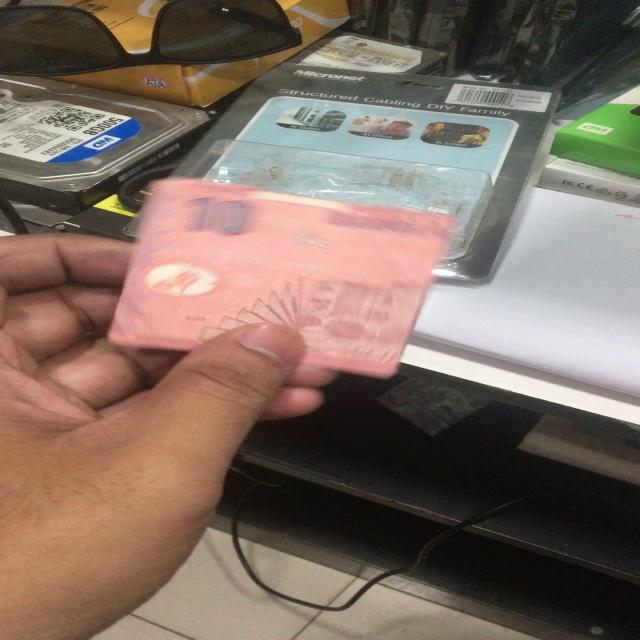Taka: (128, 174, 456, 378)
